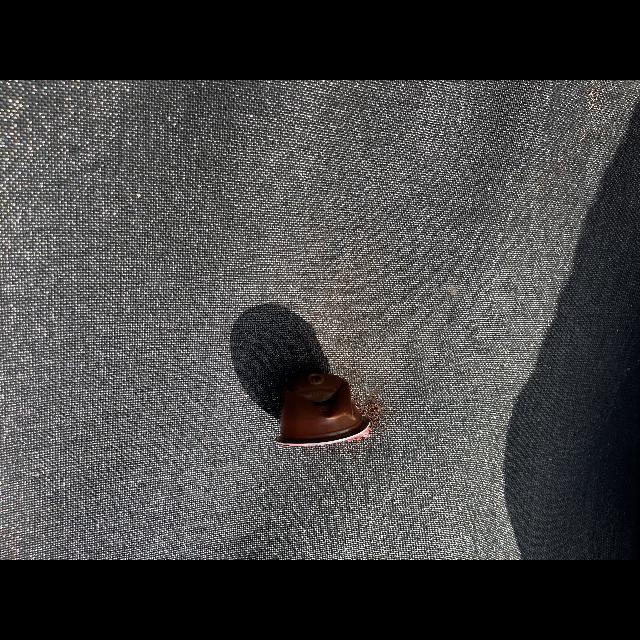damaged_capsule: (266, 365, 379, 453)
